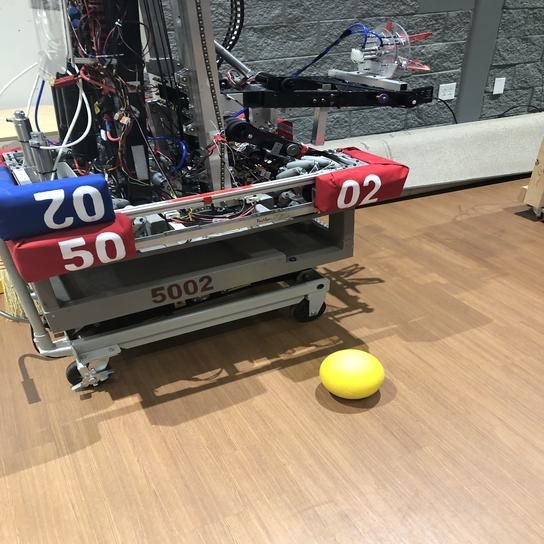ball: (316, 345, 388, 405)
